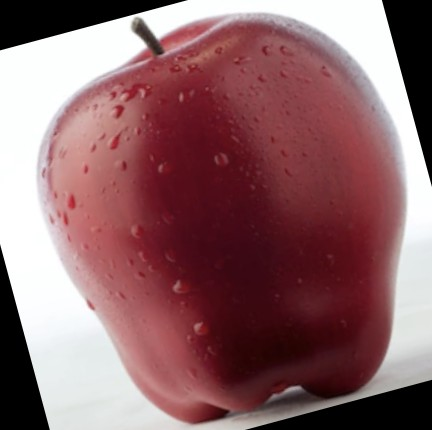fresh_apple: (39, 14, 401, 419)
